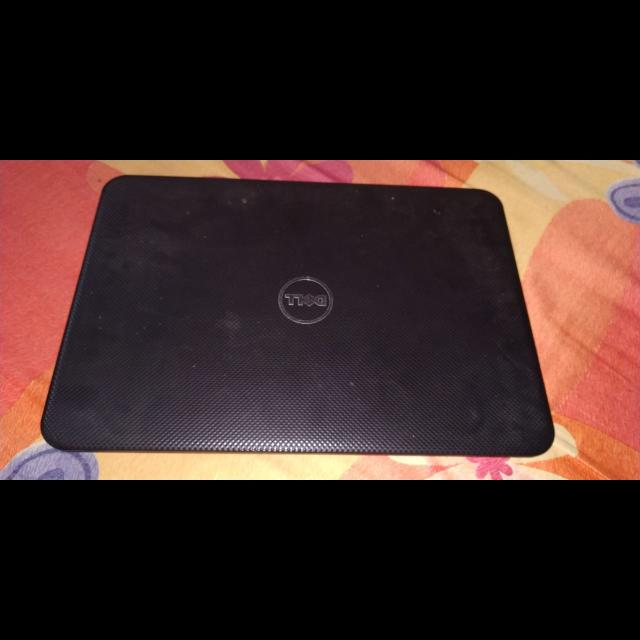Laptop: (34, 172, 564, 466)
